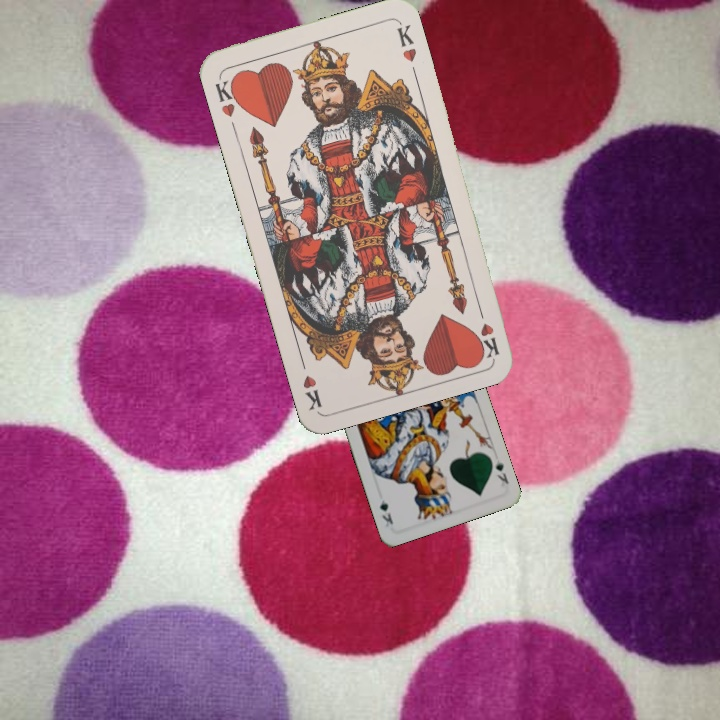GK: (491, 456, 511, 486)
HK: (473, 300, 501, 359), (211, 73, 244, 120)
